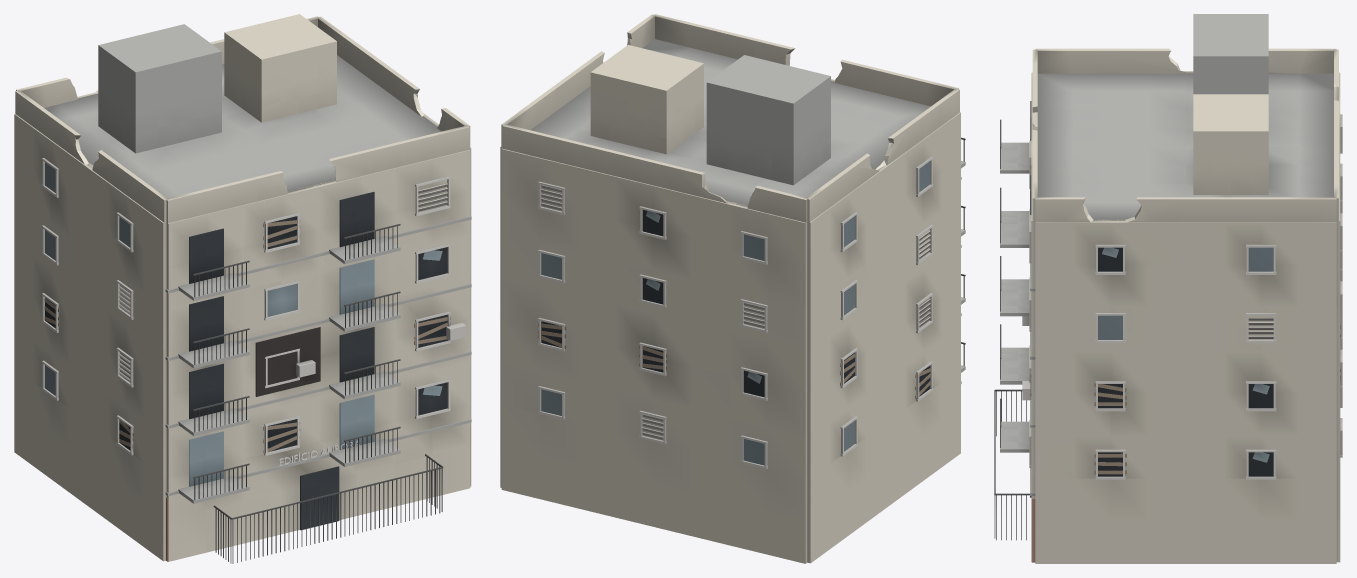
Rendered from apto_2.glb.
3 renders of one model, left to right at view 1: azimuth 30°, elevation 25°; view 2: azimuth 150°, elevation 25°; view 3: azimuth 270°, elevation 25°, orthographic.
Visible parts, largest first — view 1: ext, detalhe, longe; view 2: ext, detalhe, longe; view 3: ext, longe, detalhe.
Boxes of the visible parts, x1,y1,x2,y2 form: ext: (14, 92, 471, 561); detalhe: (42, 14, 466, 563); longe: (15, 16, 471, 563); ext: (500, 79, 960, 563); detalhe: (537, 45, 965, 469); longe: (501, 14, 961, 383); ext: (1031, 71, 1340, 563); longe: (994, 48, 1338, 562); detalhe: (995, 14, 1342, 540).
Size of what is drawn, in the model's own units: 14.48 by 18.6 by 13.87.
